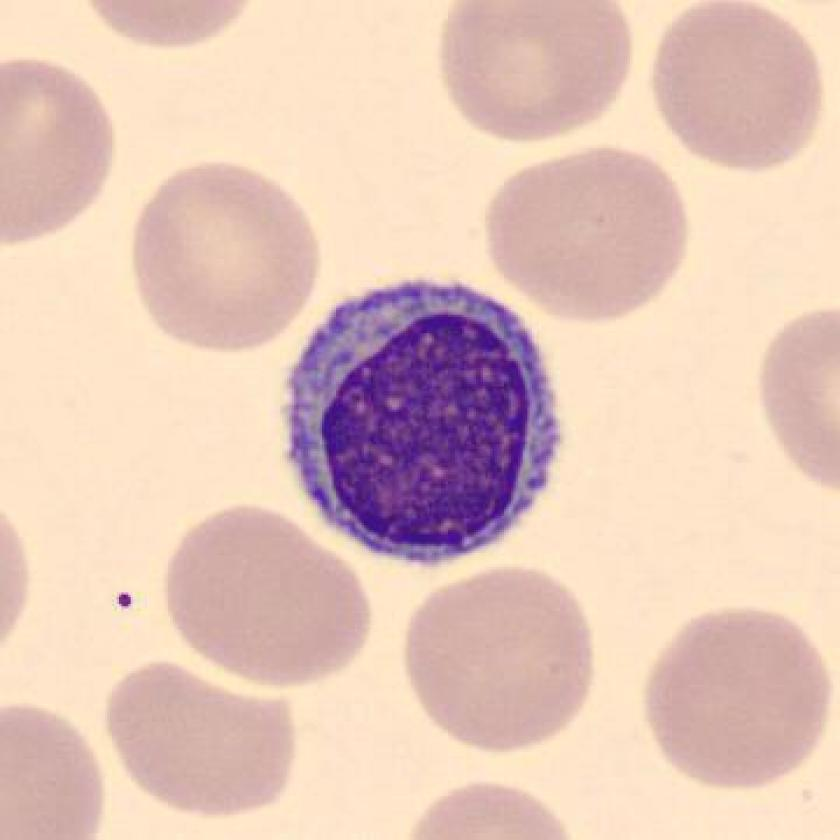lymphocyte: (274, 260, 580, 584)
